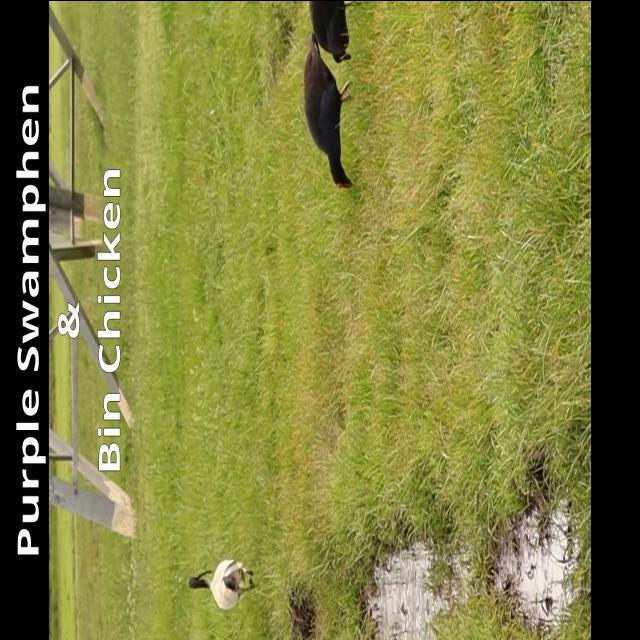Birds-Ibis: (186, 552, 261, 612)
Birds-Other: (300, 30, 357, 194), (306, 0, 360, 65)
